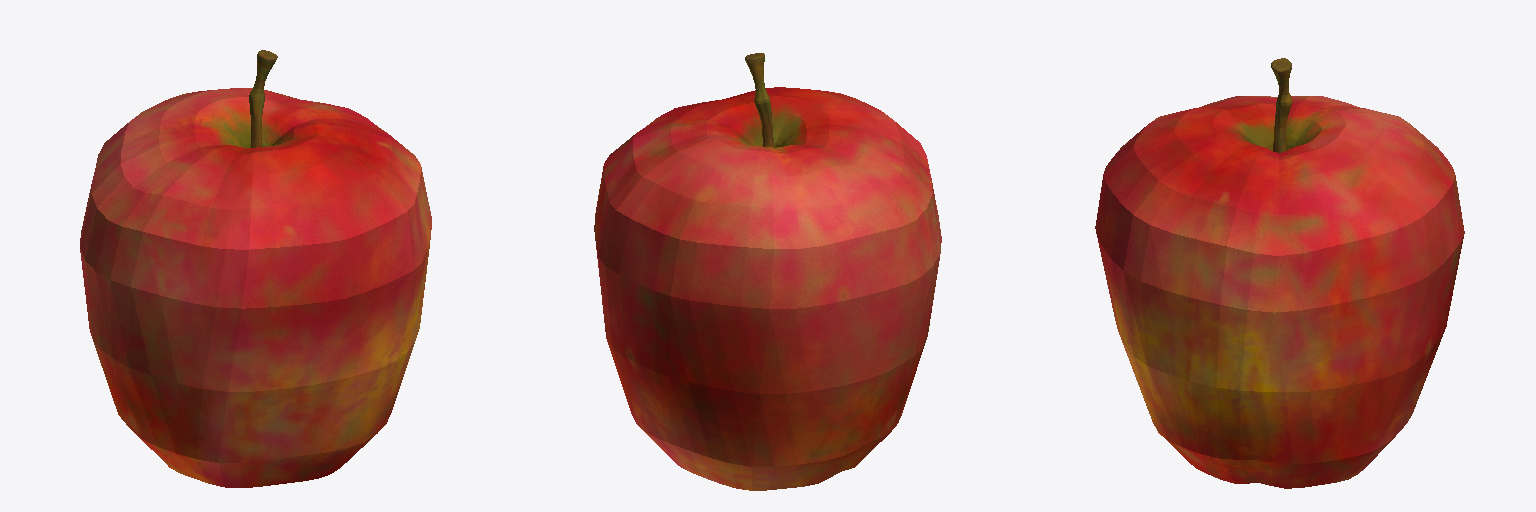
3 views of the same model, side by side, from view 1: azimuth 30°, elevation 25°; view 2: azimuth 150°, elevation 25°; view 3: azimuth 270°, elevation 25° (orthographic).
Parts seen in each view (by area): view 1: Apple; view 2: Apple; view 3: Apple.
Boxes of the visible parts, <box> form: Apple: <box>80,50,431,487</box>; Apple: <box>594,53,941,490</box>; Apple: <box>1095,58,1464,488</box>.
Size of the model in its own units: 0.9115 by 1.11 by 0.9291.
1 materials, 1 textured.